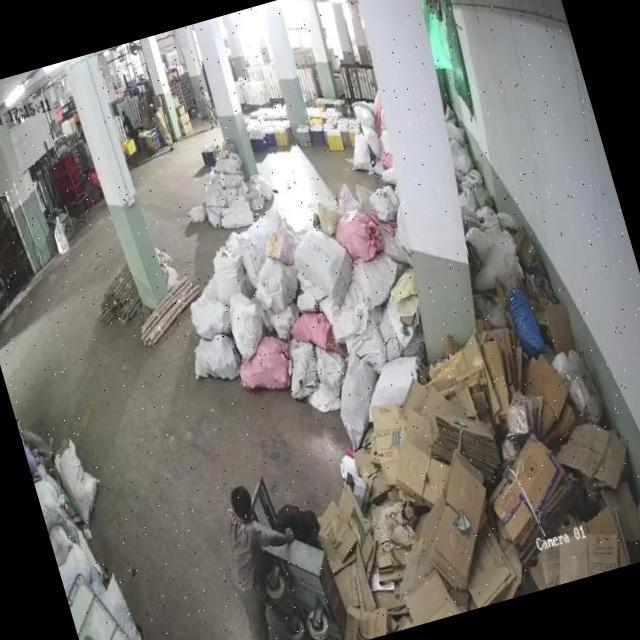person: (205, 476, 298, 640), (150, 106, 177, 156), (120, 110, 142, 152), (198, 84, 219, 128)
